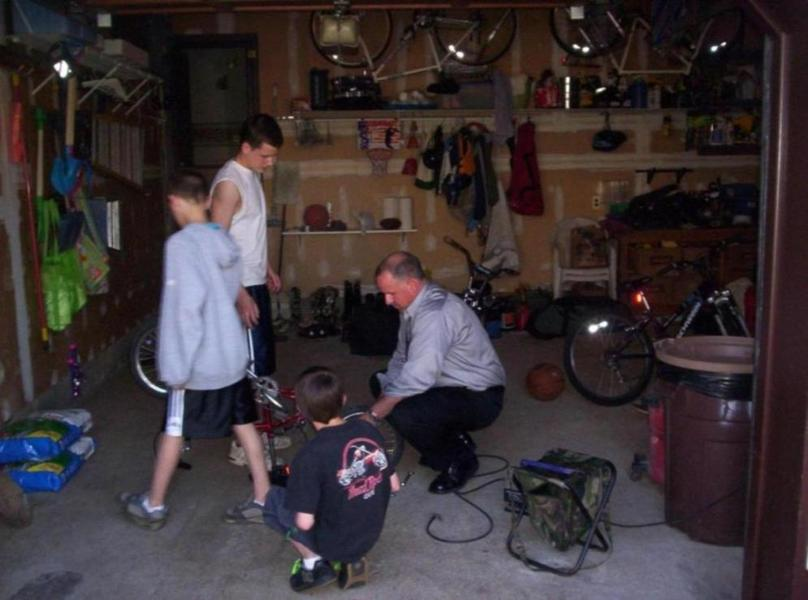person: (360, 250, 507, 496)
